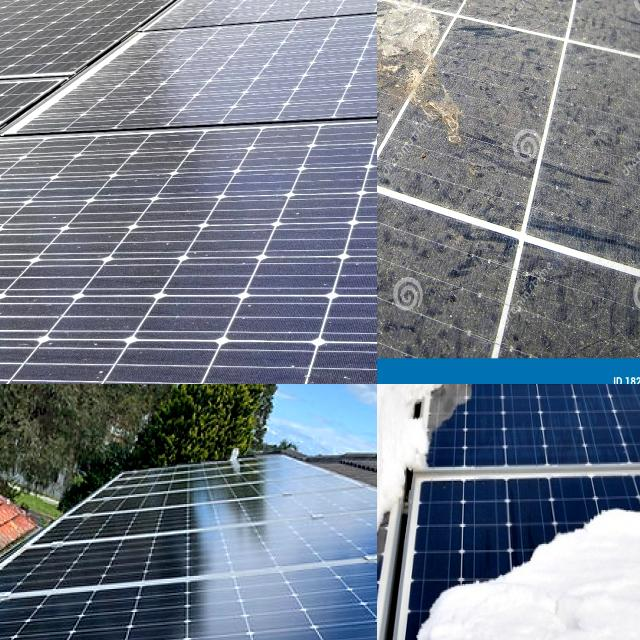bird: (377, 0, 478, 144)
crack: (140, 520, 286, 602), (190, 586, 350, 640), (46, 605, 238, 640)
dust: (110, 280, 305, 384), (0, 0, 176, 105), (293, 107, 377, 244), (306, 0, 377, 107), (169, 0, 292, 24)
panel: (415, 473, 640, 640), (377, 384, 466, 640), (452, 384, 640, 462), (377, 384, 453, 406)
